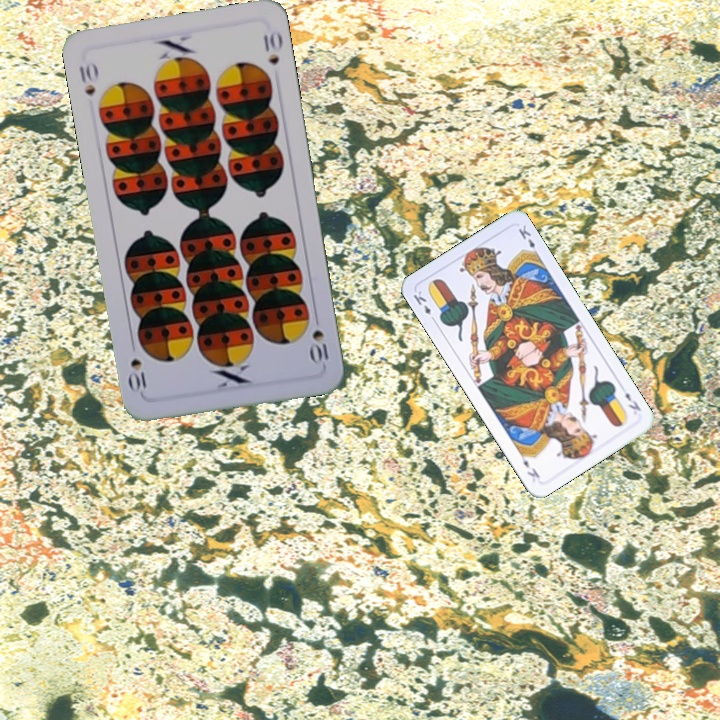EK: (409, 286, 438, 325), (621, 388, 644, 414)
S10: (307, 325, 331, 368), (75, 58, 100, 99)
